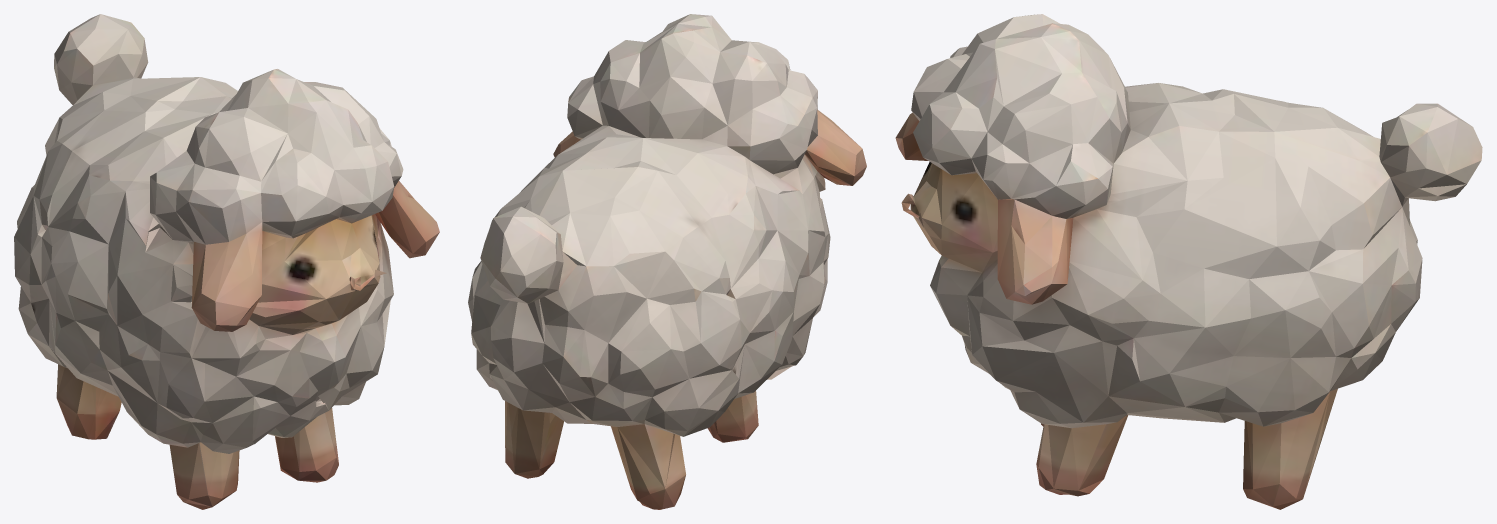
Rendered from sheep_lo.glb.
3 views of the same model, side by side, from view 1: azimuth 30°, elevation 25°; view 2: azimuth 150°, elevation 25°; view 3: azimuth 270°, elevation 25° (orthographic). The views are drawn at different scales.
Parts seen in each view (by area): view 1: geometry_0; view 2: geometry_0; view 3: geometry_0.
Part boxes in pixels (x1=…): geometry_0: x1=14, y1=14, x2=439, y2=509; geometry_0: x1=468, y1=14, x2=866, y2=509; geometry_0: x1=895, y1=14, x2=1482, y2=509.
Size of the model in its own units: 0.6489 by 0.8407 by 0.9989.
Materials: 1 (1 with a texture image).
